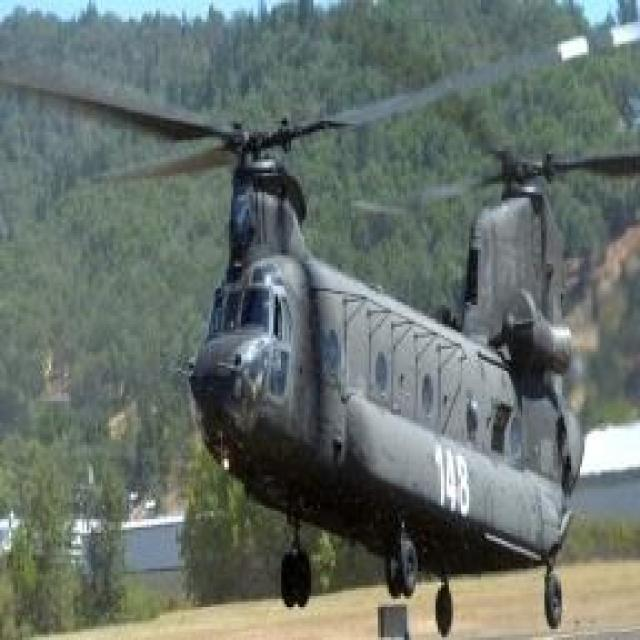Helicopter: (67, 78, 622, 616)
